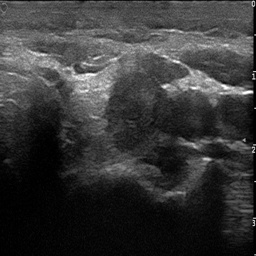mass: (105, 72, 170, 156)
